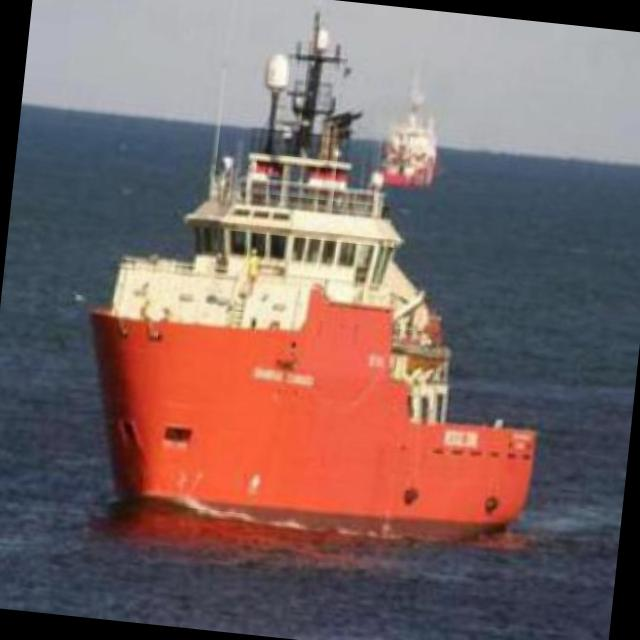boat: (44, 130, 574, 552)
